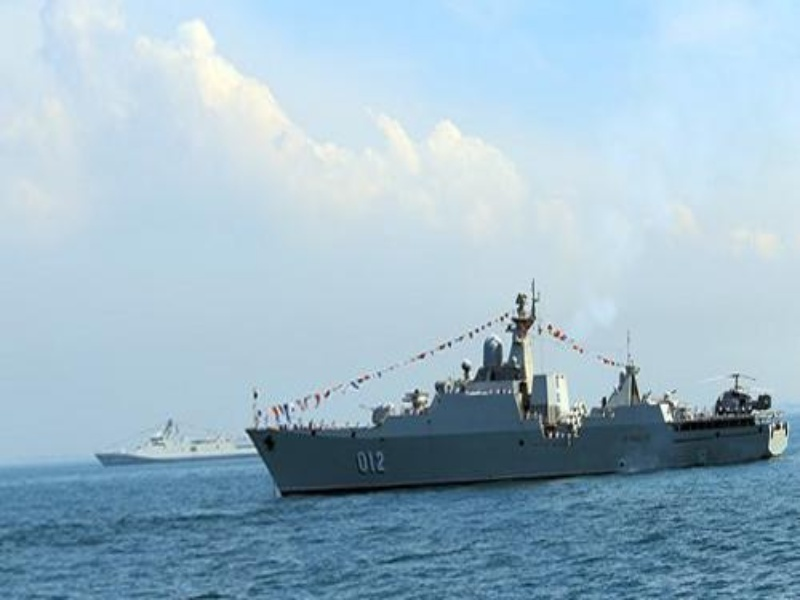cruise: (239, 291, 784, 498), (91, 419, 247, 464)
